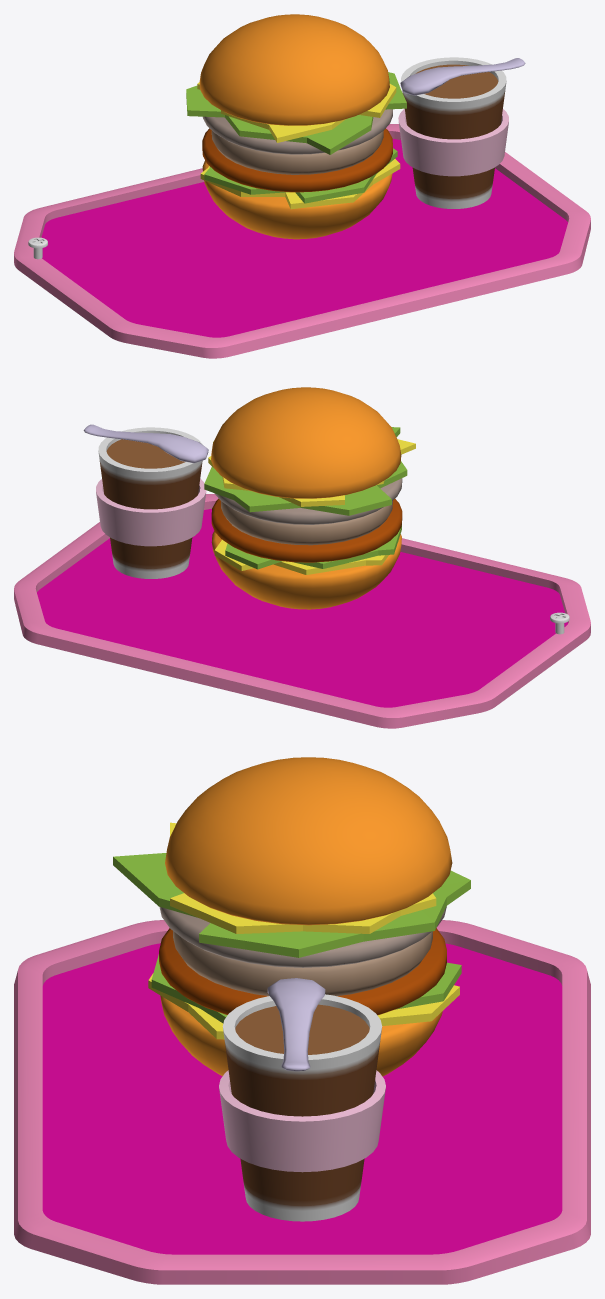
3 renders of one model, top to bottom at view 1: azimuth 30°, elevation 25°; view 2: azimuth 150°, elevation 25°; view 3: azimuth 270°, elevation 25°, orthographic. The views are drawn at different scales.
Parts seen in each view (by area): view 1: obj_lid_pink.001, Sphere.001, Cylinder.090, Sphere, Cylinder.091, Cylinder.002, Cylinder.001, Plane.003, Cylinder, Cube.073, Plane.002, Plane (+1 smaller); view 2: obj_lid_pink.001, Sphere.001, Cylinder.090, Sphere, Cylinder.091, Cylinder.002, Cylinder.001, Plane.003, Cylinder, Cube.073, Plane.002, Plane.001 (+1 smaller); view 3: obj_lid_pink.001, Sphere.001, Cylinder.090, Cylinder.091, Plane.003, Cylinder.001, Cylinder.002, Sphere, Cylinder, Plane, Cube.073, Plane.001 (+1 smaller).
Part boxes in pixels (x1,y1,x2,y2): obj_lid_pink.001: (14,124,590,358); Sphere.001: (199,14,389,125); Cylinder.090: (401,57,506,208); Sphere: (202,160,392,239); Cylinder.091: (398,109,508,176); Cylinder.002: (202,128,392,192); Cylinder.001: (211,130,383,174); Plane.003: (186,72,406,154); Cylinder: (202,109,392,154); Cube.073: (400,58,525,95); Plane.002: (204,148,397,203); Plane: (197,82,396,142); obj_lid_pink.001: (14,494,590,728); Sphere.001: (211,387,401,498); Cylinder.090: (98,427,202,578); Sphere: (211,531,401,609); Cylinder.091: (96,479,206,546); Cylinder.002: (211,498,402,562); Cylinder.001: (221,501,392,545); Plane.003: (204,427,407,515); Cylinder: (214,478,402,524); Cube.073: (83,424,208,463); Plane.002: (225,525,401,569); Plane.001: (214,539,398,574); obj_lid_pink.001: (14,920,590,1284); Sphere.001: (165,757,452,925); Cylinder.090: (222,994,382,1221); Cylinder.091: (219,1070,385,1172); Plane.003: (113,853,470,957); Cylinder.001: (173,931,432,996); Cylinder.002: (159,928,446,1015); Sphere: (160,995,442,1076); Cylinder: (159,906,446,967); Plane: (170,822,436,933); Cube.073: (267,978,325,1071); Plane.001: (148,973,459,1039).
Bounding box in the file's own units: 58.34 × 24.02 × 38.1.
